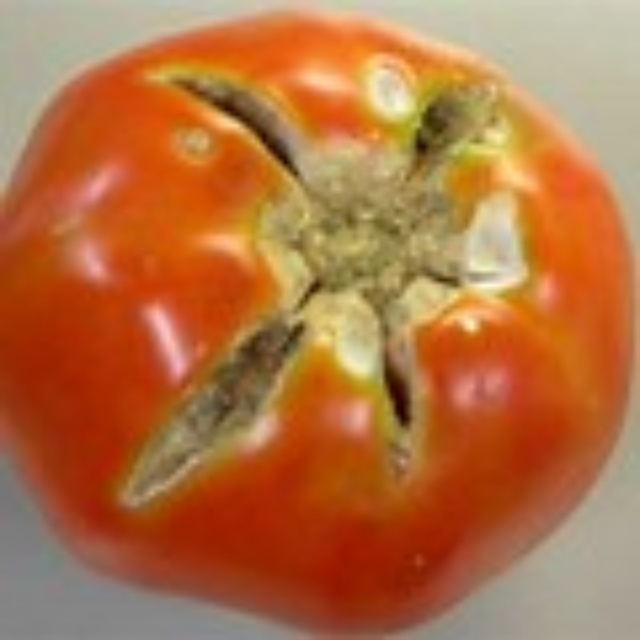tomato: (11, 13, 629, 621)
